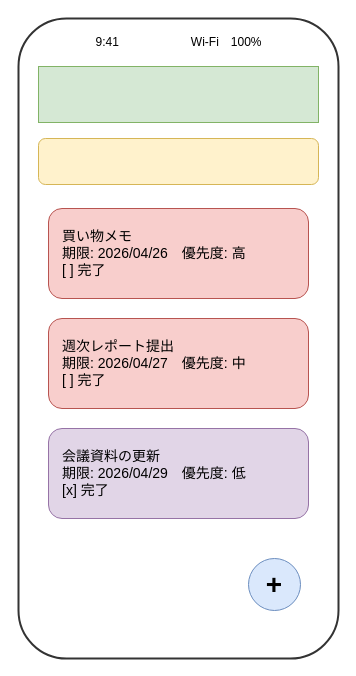
The diagram is 356 pixels wide and 676 high, and some of its shapes have lost their labels. The box of each missing label's shape, as (x1, y1, x2, y2) in pixels:
ToDo App 同期済み 検索: (38, 66, 318, 122)
全件 | 未完了 | 完了済み | 優先度: (38, 138, 318, 184)
